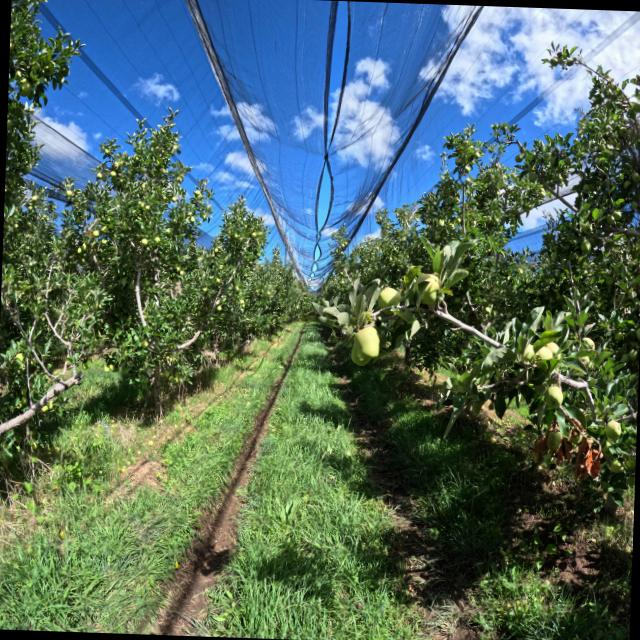-FireBlight-: (530, 417, 602, 482)
